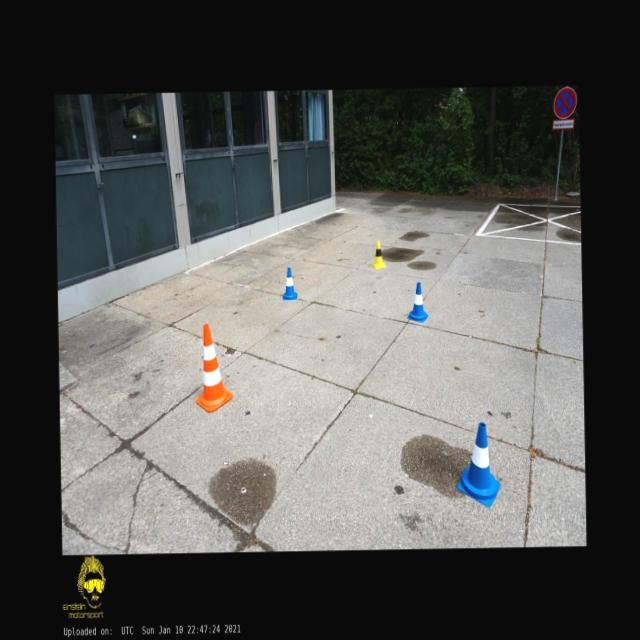blue_cone: (456, 422, 500, 508), (406, 282, 428, 322), (282, 268, 297, 300)
large_orange_cone: (195, 323, 232, 413)
yellow_cone: (372, 240, 386, 268)
